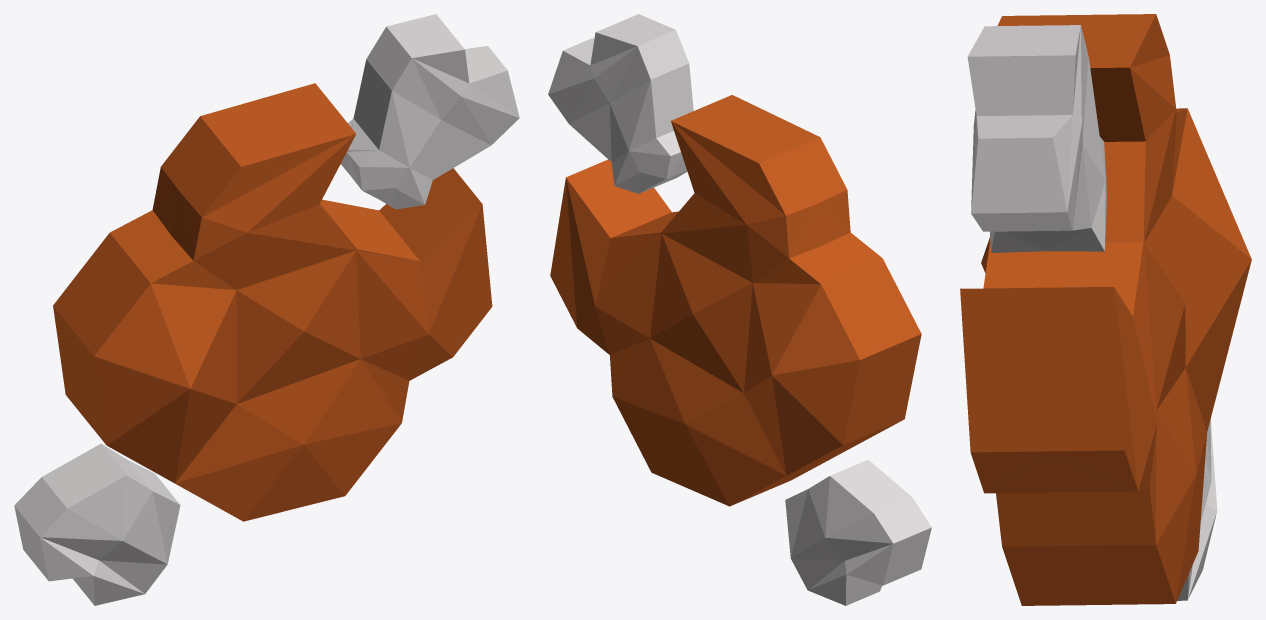
Rendered from food_time_food.FBX.
3 views of the same model, side by side, from view 1: azimuth 30°, elevation 25°; view 2: azimuth 150°, elevation 25°; view 3: azimuth 270°, elevation 25° (orthographic). The views are drawn at different scales.
Parts seen in each view (by area): view 1: sp_time; view 2: sp_time; view 3: sp_time.
Part boxes in pixels (x1,y1,x2,y2): sp_time: (14, 14, 519, 605); sp_time: (548, 14, 931, 605); sp_time: (960, 14, 1251, 605).
Bounding box in the file's own units: 25.4 × 29 × 10.33.
